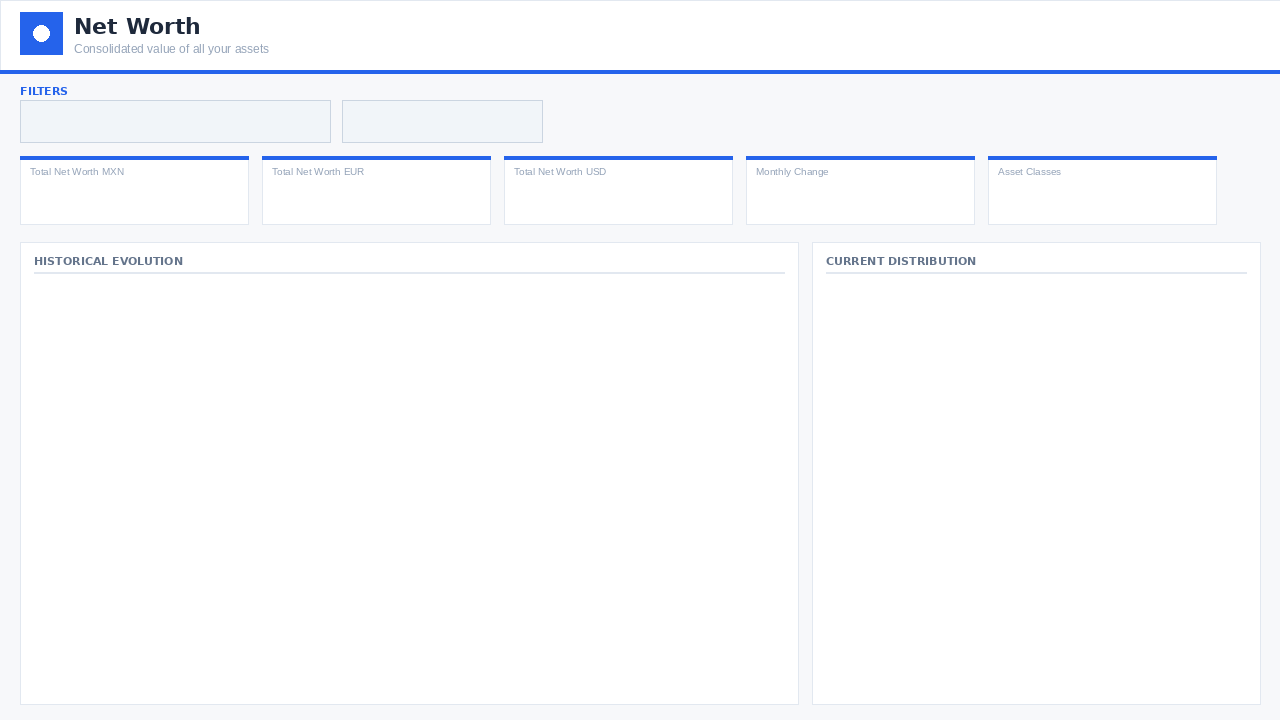

The page's visual inventory and layout, read from the dashboard file:
{"tool":"powerbi","page":{"name":"Patrimonio","canvas":[1280,720],"ordinal":0},"visuals":[{"type":"cardVisual","title":"Patrimonio total MXN","fields":{"Data":["Fact_PortfolioSnapshot.Snapshot Último Mes"]},"box":[20,172.5,223.8,57.5],"z":0},{"type":"cardVisual","title":"Variación vs mes anterior","fields":{"Data":["Fact_PortfolioSnapshot.Crecimiento vs Mes Anterior"]},"box":[748.8,172.5,223.8,57.5],"z":1000},{"type":"cardVisual","title":"Clases de activo","fields":{"Data":["Count(Fact_PortfolioSnapshot.AssetGroup)"]},"box":[990,172.5,230,57.5],"z":2000},{"type":"lineChart","title":"Evolución del patrimonio por categoría","fields":{"Category":["Fact_PortfolioSnapshot.SnapshotDate"],"Series":["Fact_PortfolioSnapshot.AssetName"],"Y":["Fact_PortfolioSnapshot.Patrimonio Total MXN"]},"box":[20,277.5,773.8,422.5],"z":3000},{"type":"donutChart","title":"Distribución actual del patrimonio","fields":{"Category":["Fact_PortfolioSnapshot.AssetGroup"],"Y":["Fact_PortfolioSnapshot.Snapshot Último Mes"]},"box":[815,277.5,441.2,422.5],"z":4000},{"type":"slicer","title":"Categoría","fields":{"Values":["Fact_PortfolioSnapshot.AssetGroup"]},"box":[0,97.5,353.5,51],"z":5000},{"type":"slicer","title":"Divisa","fields":{"Values":["Fact_PortfolioSnapshot.Currency"]},"box":[320,97.5,244.5,51],"z":6000},{"type":"cardVisual","title":"Patrimonio total EUR","fields":{"Data":["Fact_PortfolioSnapshot.Patrimonio Total EUR"]},"box":[263.8,172.5,228.8,57.5],"z":7000},{"type":"cardVisual","title":"Patrimonio total USD","fields":{"Data":["Fact_PortfolioSnapshot.Patrimonio Total USD"]},"box":[506.2,172.5,220,57.5],"z":8000}]}

Visuals, with their boxes in screenshot pixels (x1, y1, x2, y2), scaled from the page's 1280x720 canvas onto the 1280x720 screenshot:
"Patrimonio total MXN" cardVisual: l=20, t=172, r=244, b=230
"Variación vs mes anterior" cardVisual: l=749, t=172, r=973, b=230
"Clases de activo" cardVisual: l=990, t=172, r=1220, b=230
"Evolución del patrimonio por categoría" lineChart: l=20, t=278, r=794, b=700
"Distribución actual del patrimonio" donutChart: l=815, t=278, r=1256, b=700
"Categoría" slicer: l=0, t=98, r=354, b=148
"Divisa" slicer: l=320, t=98, r=564, b=148
"Patrimonio total EUR" cardVisual: l=264, t=172, r=493, b=230
"Patrimonio total USD" cardVisual: l=506, t=172, r=726, b=230
